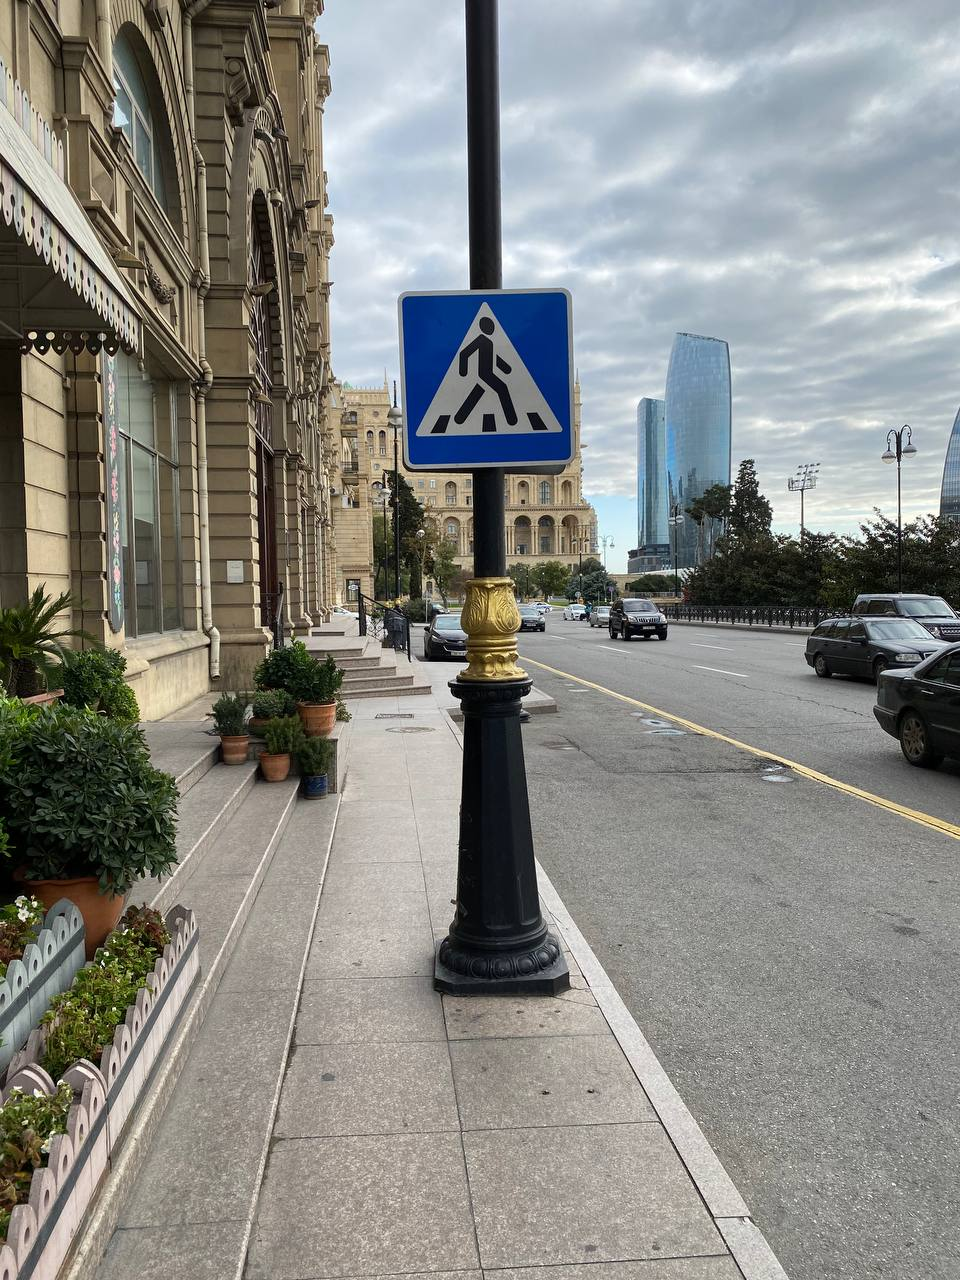Pedestrian Crossing: (398, 287, 573, 470)
